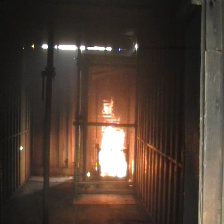fire_h: (98, 124, 127, 178), (102, 99, 120, 123)
